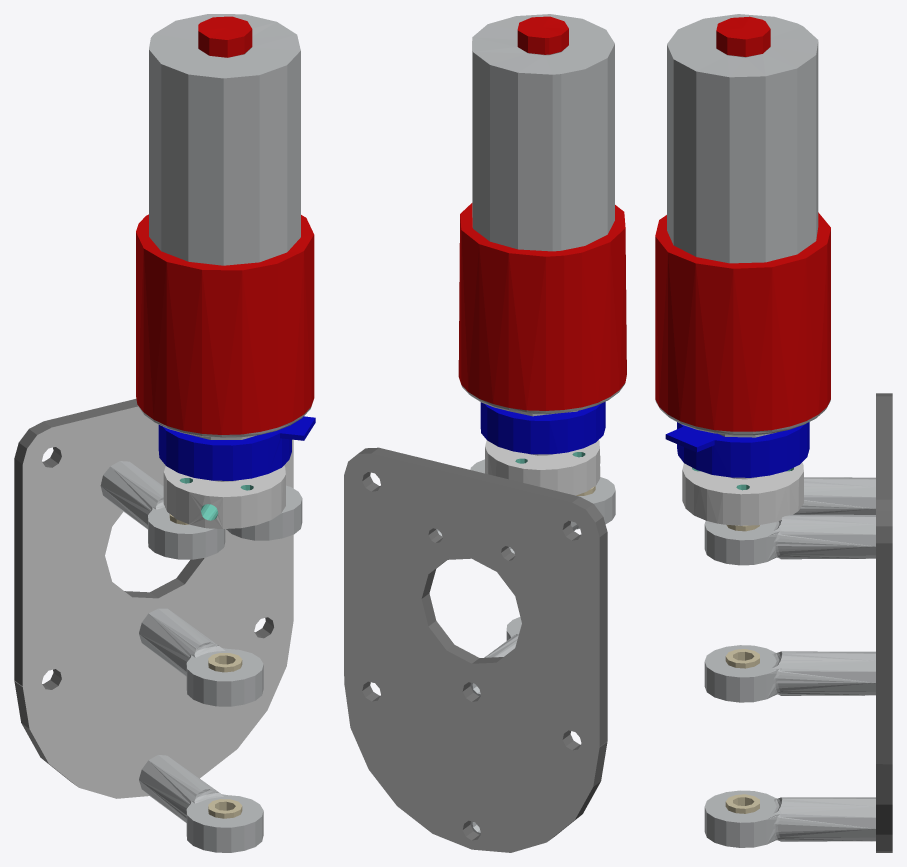
File: steering_block.dae
The picture shows the model from 3 angles, left to right: view 1: azimuth 30°, elevation 25°; view 2: azimuth 150°, elevation 25°; view 3: azimuth 270°, elevation 25°; orthographic projection. The views are drawn at different scales.
Parts seen in each view (by area): view 1: Wheel_Plate, Motor, Shaft_Coupler, Position_Encoder; view 2: Wheel_Plate, Motor, Position_Encoder, Shaft_Coupler; view 3: Motor, Wheel_Plate, Shaft_Coupler, Position_Encoder.
Boxes of the visible parts, bbox=[...] form: Wheel_Plate: bbox=[14, 399, 302, 852]; Motor: bbox=[136, 14, 314, 439]; Shaft_Coupler: bbox=[163, 465, 285, 528]; Position_Encoder: bbox=[158, 416, 315, 480]; Wheel_Plate: bbox=[344, 447, 615, 852]; Motor: bbox=[458, 14, 626, 416]; Position_Encoder: bbox=[480, 401, 605, 454]; Shaft_Coupler: bbox=[485, 440, 600, 495]; Motor: bbox=[655, 14, 830, 437]; Wheel_Plate: bbox=[704, 393, 892, 852]; Shaft_Coupler: bbox=[682, 462, 803, 525]; Position_Encoder: bbox=[665, 422, 809, 477].
Size of the model in its own units: 0.056 by 0.0428 by 0.1613.
